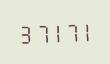one: (48, 20, 62, 43), (78, 19, 92, 42)
seven: (33, 20, 47, 44), (63, 19, 77, 43)
three: (18, 21, 32, 44)
